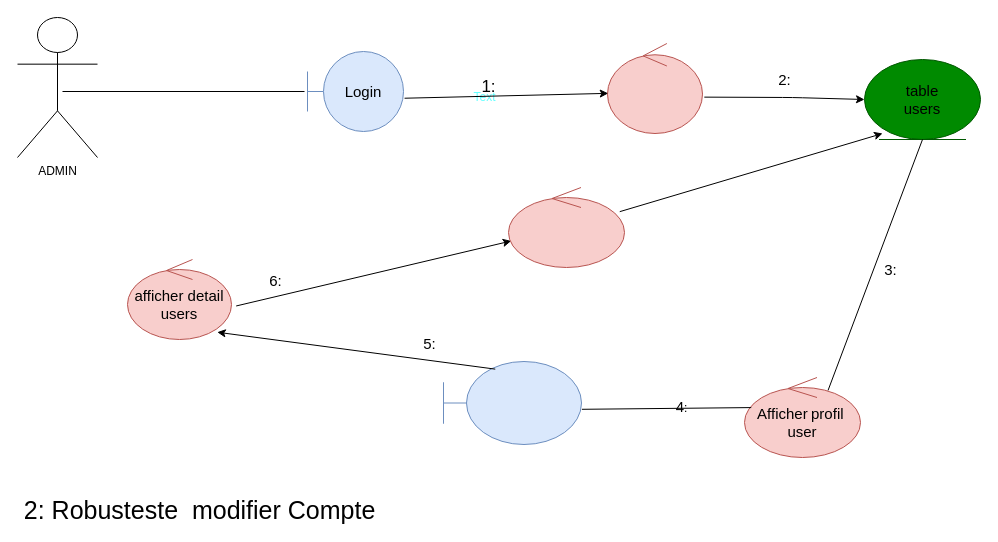
The diagram is 998 pixels wide and 542 high, and some of its shapes have lost their labels. The centre of each missing label's shape, as x and y in pixels:
afficher liste users: point 654,88
Modifier Profil: point 566,227
Profil user: point 512,402
